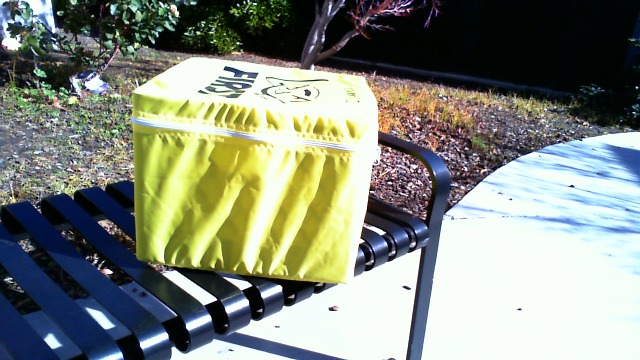cube: (119, 57, 382, 287)
